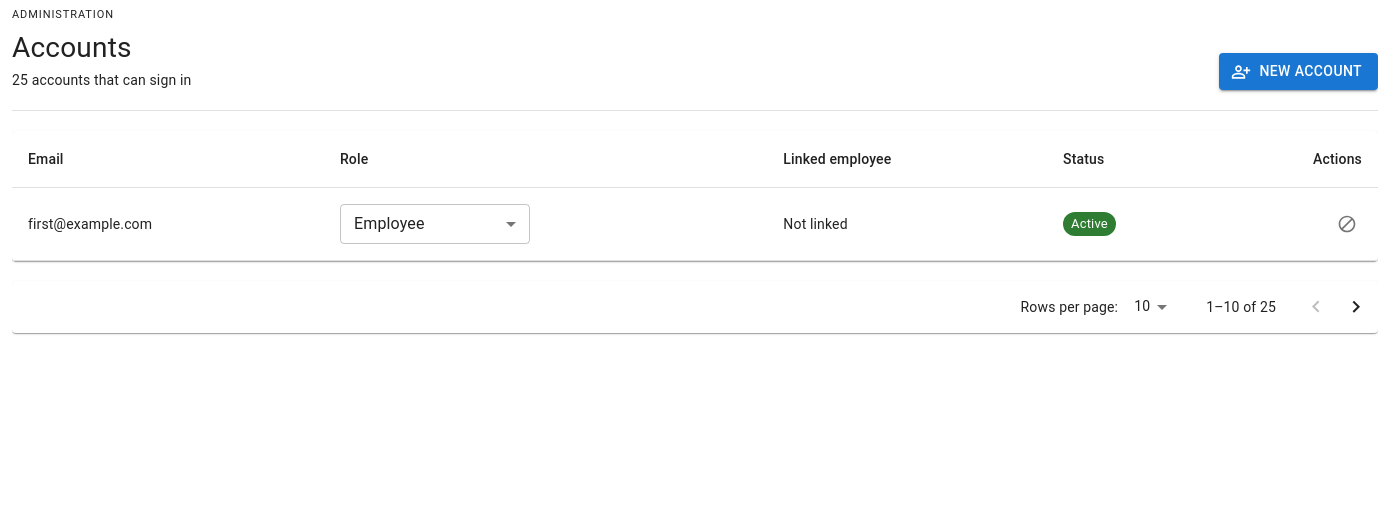
UserListPage › ignores a page answer that arrives after the user moved on
Check: the text "first@example.com" is shown, box [28,214,152,234]
Step 1. Click the button named "next page" → (1356, 307), box [1336,287,1376,327]
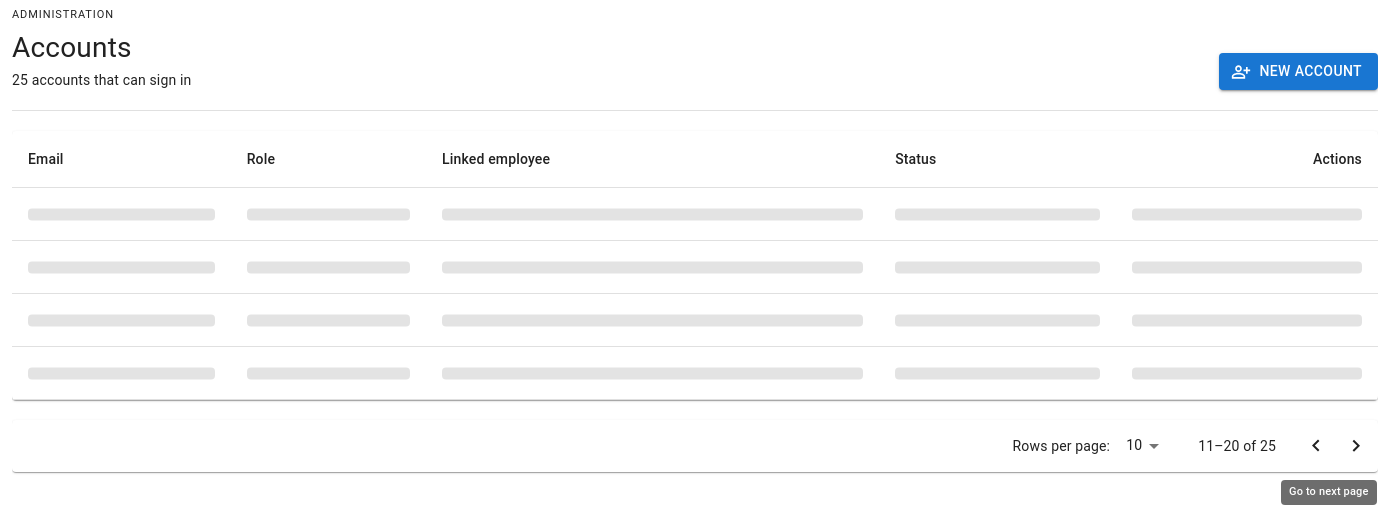
Step 2. Click the button named "previous page" → (1316, 446), box [1296,426,1336,466]
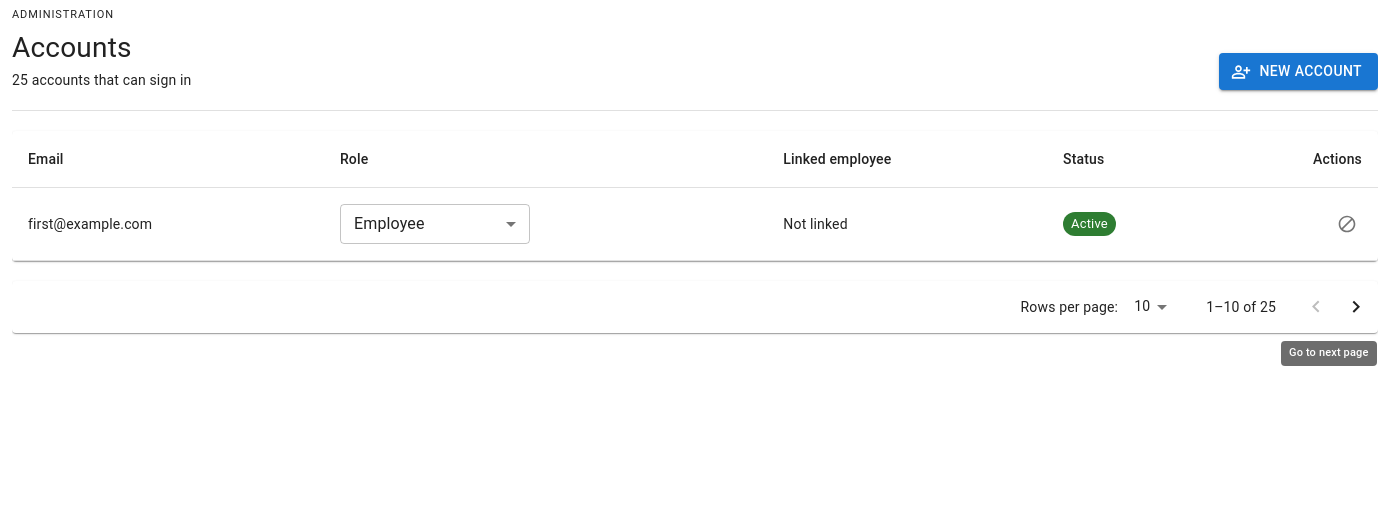
Check: the text "first@example.com" is shown, box [28,214,152,234]
